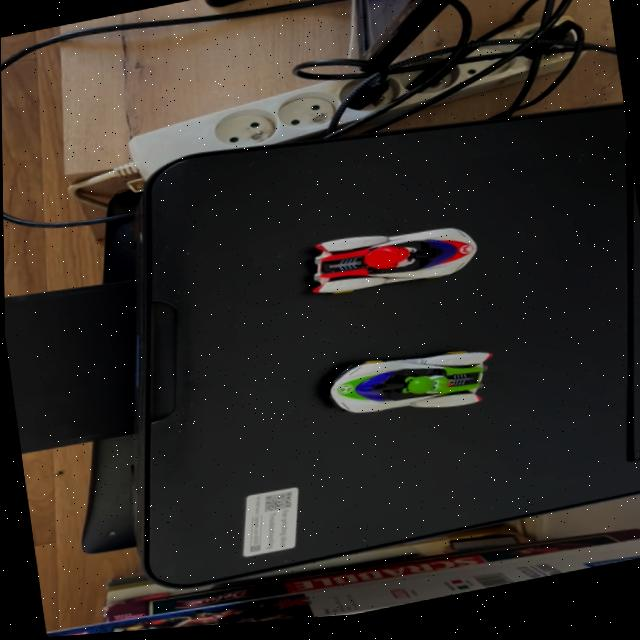mario: (285, 212, 490, 317)
yoshi: (309, 334, 510, 445)
